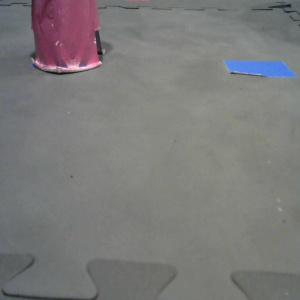middle: (30, 1, 106, 74)
